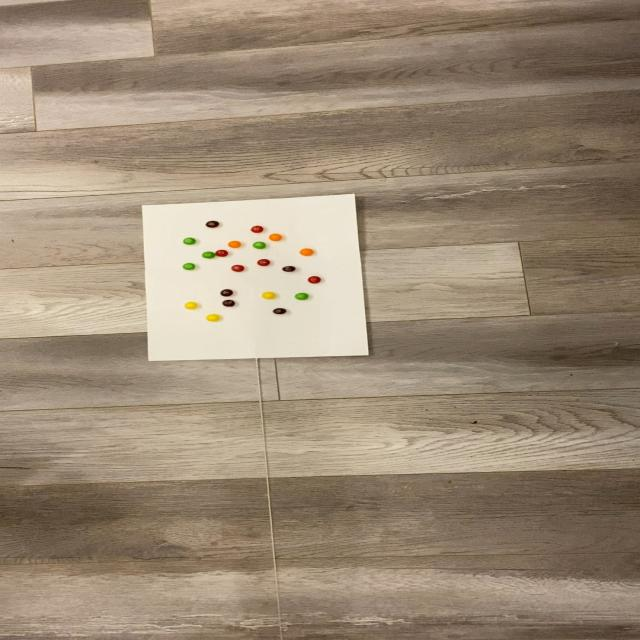smartie: (261, 292, 276, 300), (206, 314, 220, 322), (252, 241, 266, 249), (300, 248, 314, 256), (205, 221, 220, 228), (184, 302, 199, 309), (294, 293, 309, 300), (250, 225, 263, 233), (270, 233, 283, 241), (273, 308, 287, 315), (282, 265, 296, 272), (201, 251, 215, 258), (231, 265, 245, 272), (227, 241, 241, 248), (222, 300, 235, 307), (221, 289, 234, 296), (182, 263, 195, 270), (215, 250, 228, 257), (257, 259, 270, 266), (308, 276, 321, 283), (183, 238, 196, 244)
